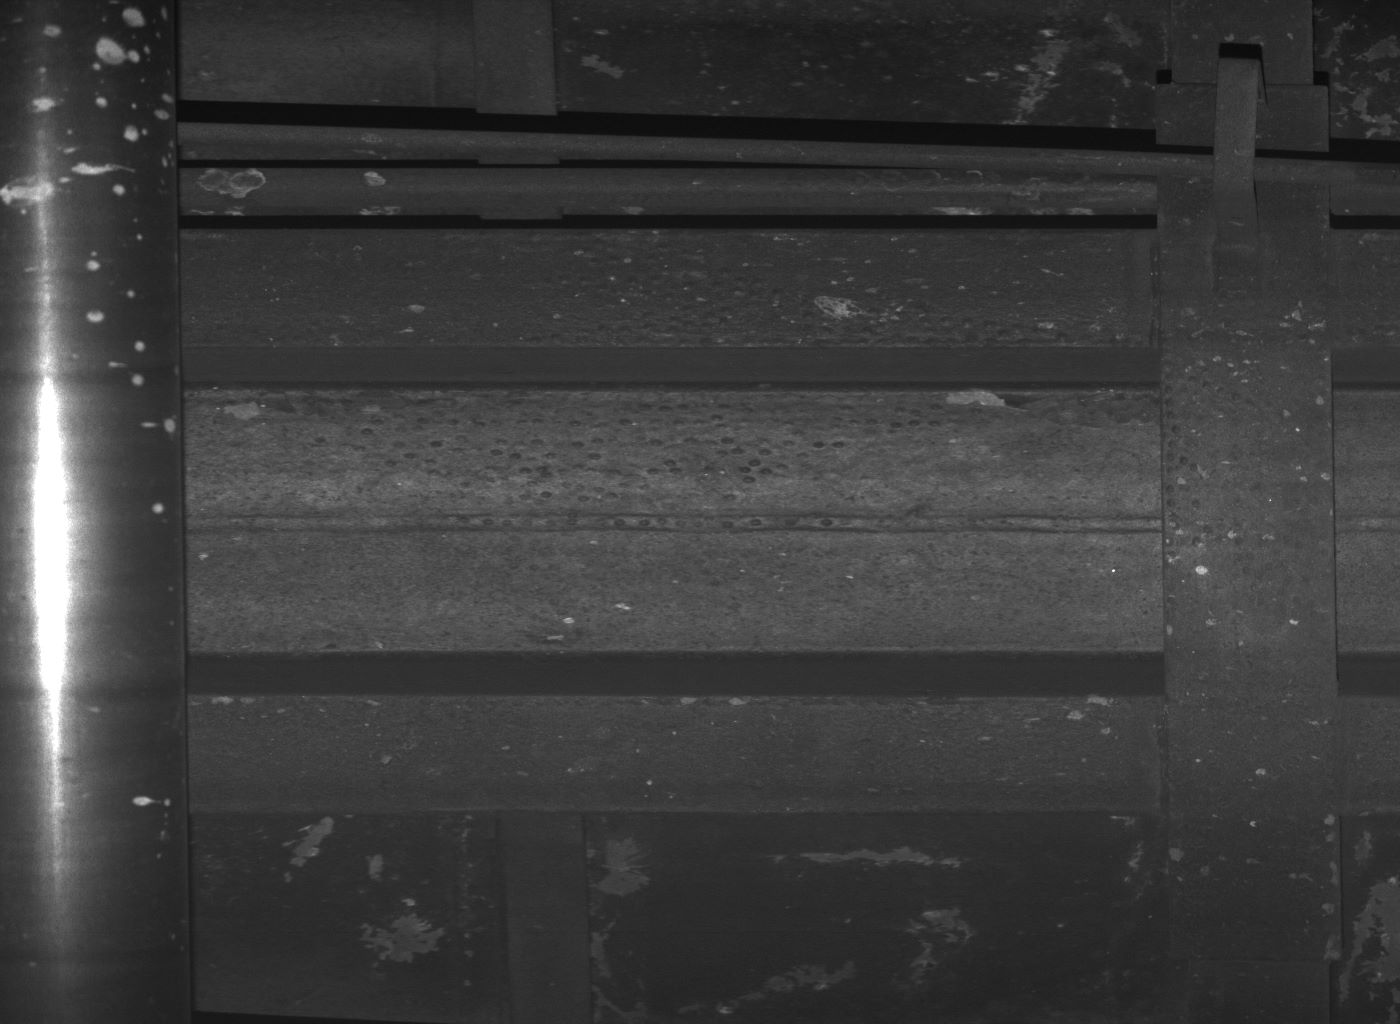normal: (1212, 58, 1261, 291)
